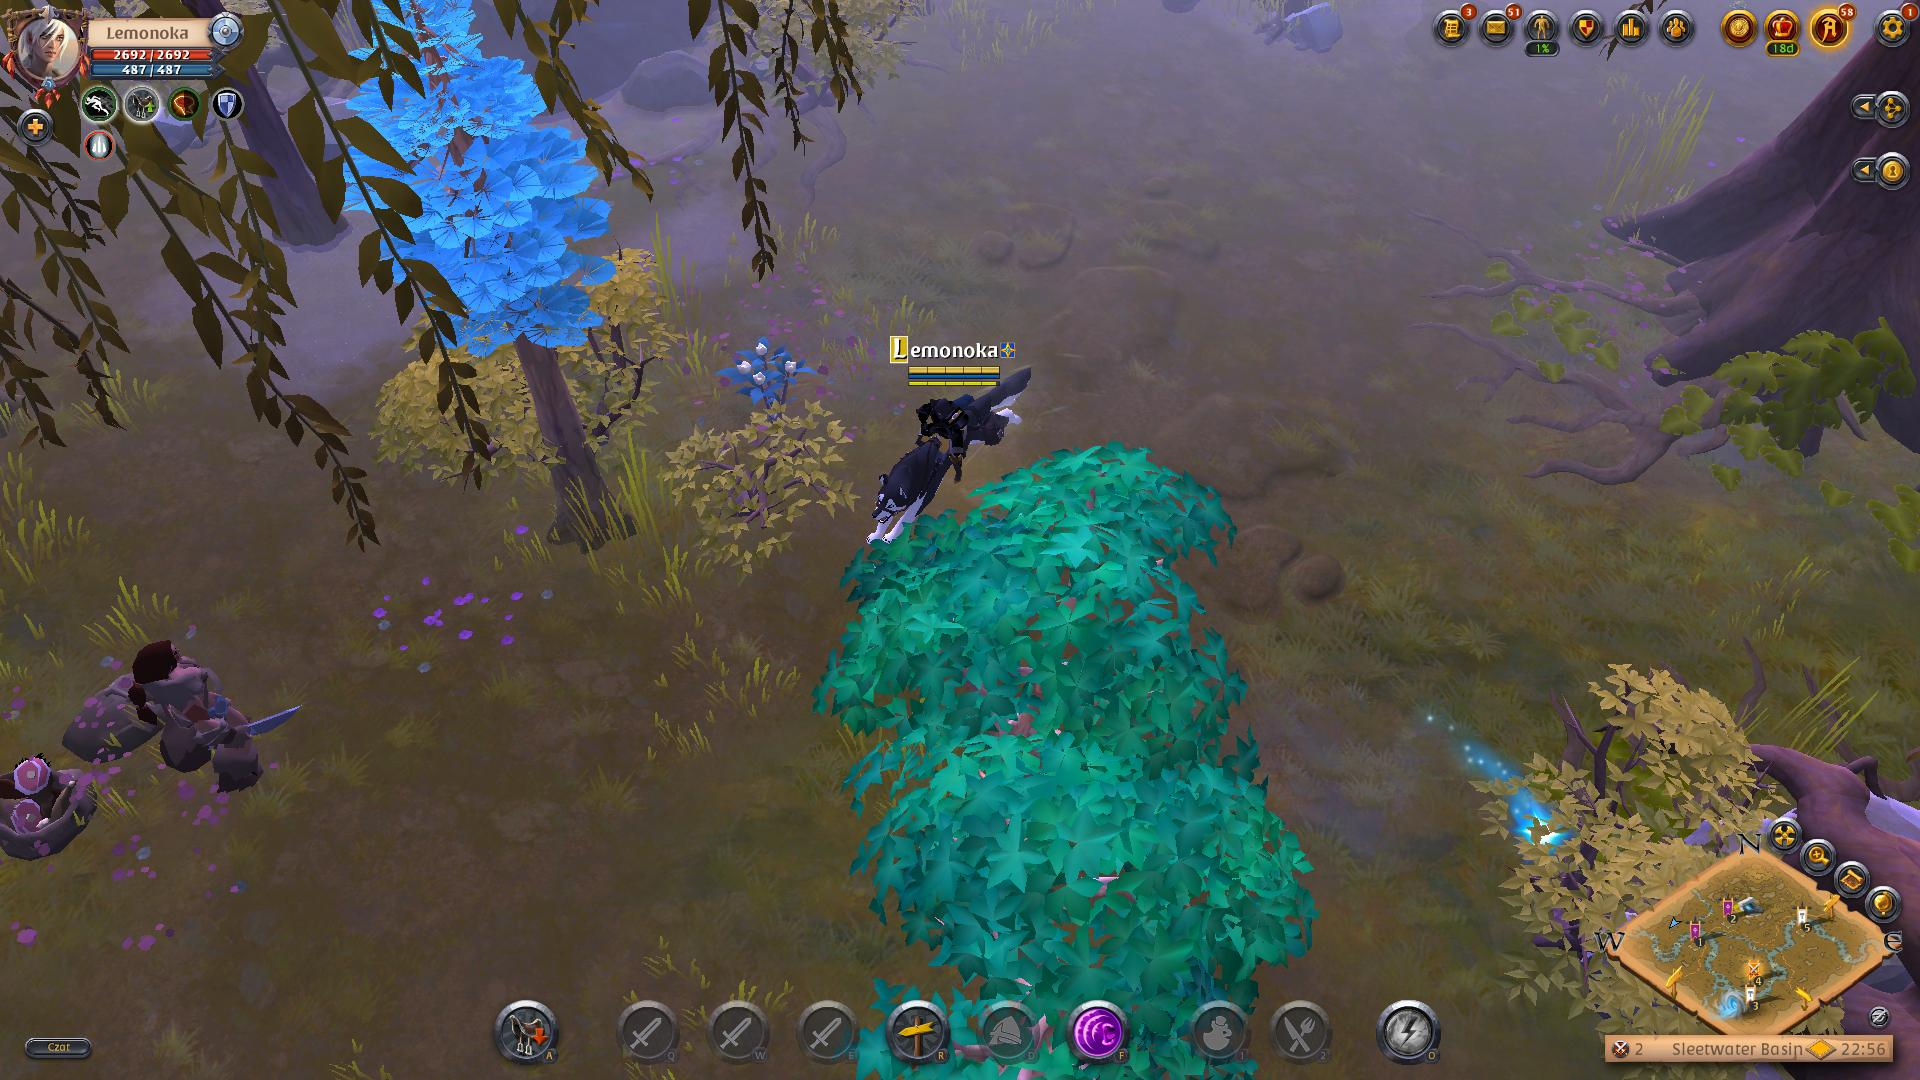fiber tier 4: (720, 339, 814, 415)
wood tier 4: (335, 0, 628, 361)
